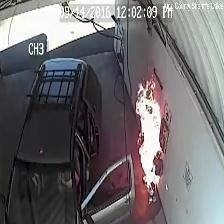fire: (132, 77, 167, 190)
